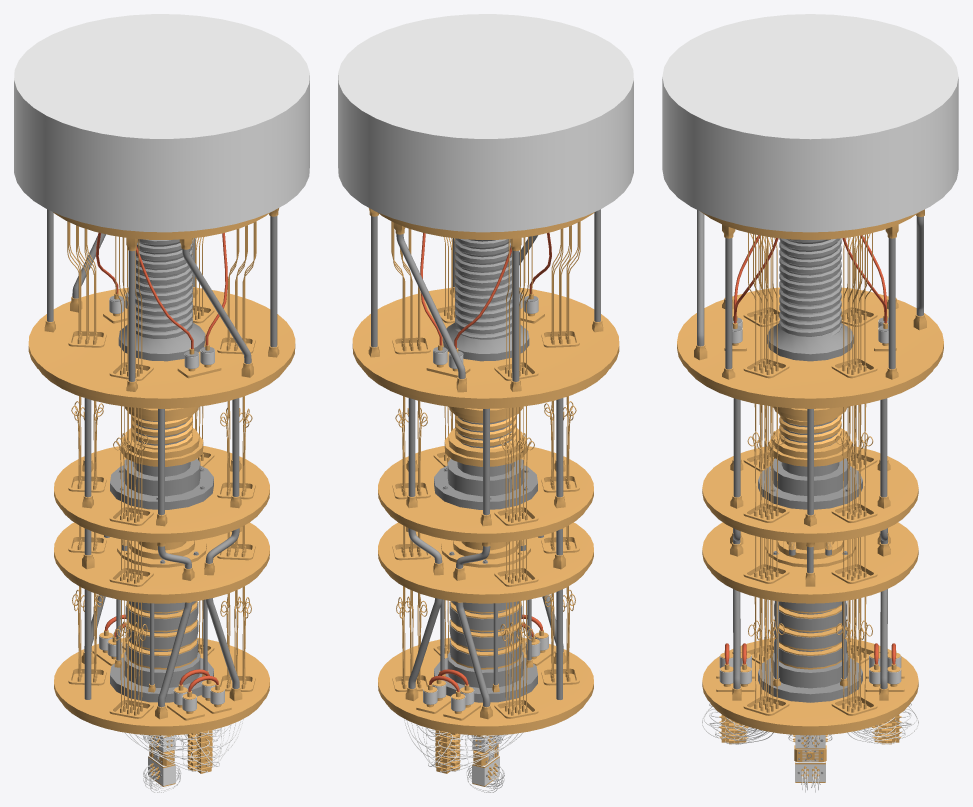
The model's file is quantum_computer.glb.
3 renders of one model, left to right at view 1: azimuth 30°, elevation 25°; view 2: azimuth 150°, elevation 25°; view 3: azimuth 270°, elevation 25°, orthographic.
Parts seen in each view (by area): view 1: Top, 2nd, 2nd.001, 2nd.002, 2nd.003, BezierCurve.006, Plane, Cylinder big 2nd, Cylinder big top, Cylinder, Cylinder big 2nd.002, Cylinder top (+22 smaller); view 2: Top, 2nd, 2nd.001, 2nd.002, 2nd.003, BezierCurve.006, Plane, Cylinder big 2nd, Cylinder big top, Cylinder, Cylinder big 2nd.002, Cylinder big 2nd.001 (+21 smaller); view 3: Top, 2nd, 2nd.001, 2nd.002, BezierCurve.006, 2nd.003, Plane, Cylinder big 2nd, Cylinder big top, Cylinder big 2nd.002, Cylinder, Cylinder big 2nd.001 (+24 smaller).
Part boxes in pixels (x1,y1,x2,y2): Top: (14, 14, 309, 239); 2nd: (28, 287, 295, 408); 2nd.001: (54, 446, 269, 542); 2nd.002: (54, 522, 269, 603); 2nd.003: (54, 637, 269, 735); BezierCurve.006: (71, 396, 252, 709); Plane: (135, 238, 192, 338); Cylinder big 2nd: (110, 419, 213, 509); Cylinder big top: (118, 241, 205, 361); Cylinder: (125, 601, 198, 667); Cylinder big 2nd.002: (110, 610, 213, 702); Cylinder top: (128, 216, 277, 381); Top: (338, 14, 633, 239); 2nd: (352, 287, 619, 408); 2nd.001: (378, 446, 593, 542); 2nd.002: (378, 522, 593, 603); 2nd.003: (378, 637, 593, 735); BezierCurve.006: (395, 396, 576, 709); Plane: (455, 238, 512, 339); Cylinder big 2nd: (434, 417, 537, 509); Cylinder big top: (442, 239, 529, 361); Cylinder: (449, 601, 522, 667); Cylinder big 2nd.002: (434, 610, 537, 702); Cylinder big 2nd.001: (444, 406, 527, 466); Top: (662, 14, 958, 239); 2nd: (677, 287, 943, 408); 2nd.001: (702, 446, 918, 542); 2nd.002: (702, 522, 918, 603); BezierCurve.006: (747, 403, 873, 706); 2nd.003: (702, 638, 918, 735); Plane: (779, 238, 841, 336); Cylinder big 2nd: (758, 417, 862, 509); Cylinder big top: (767, 239, 853, 361); Cylinder big 2nd.002: (758, 610, 862, 702); Cylinder: (774, 601, 846, 667); Cylinder big 2nd.001: (769, 406, 851, 466).
Bounding box in the file's own units: 0.9532 × 2.53 × 0.9532.
